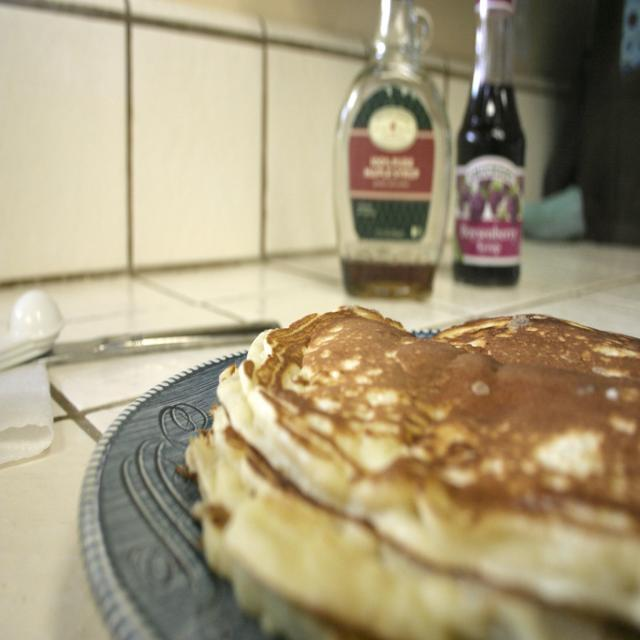Pancake: (218, 302, 640, 631)
